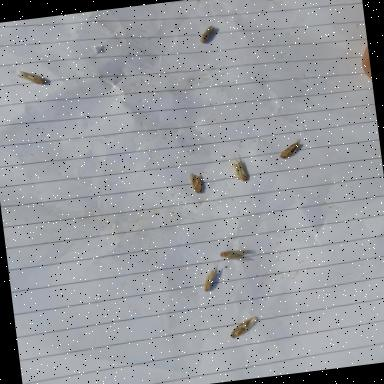pbw: (13, 64, 54, 92), (216, 245, 256, 268), (228, 314, 262, 339), (276, 138, 306, 162), (227, 156, 252, 184), (200, 266, 223, 296), (186, 169, 208, 197), (198, 21, 222, 45)
